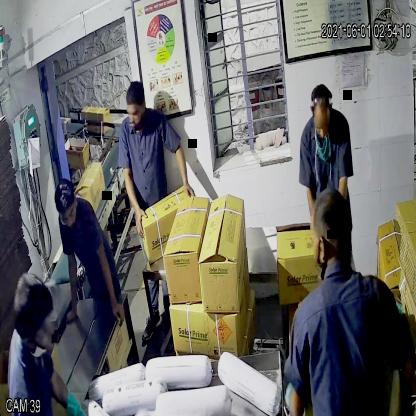goggles: (54, 202, 79, 232)
